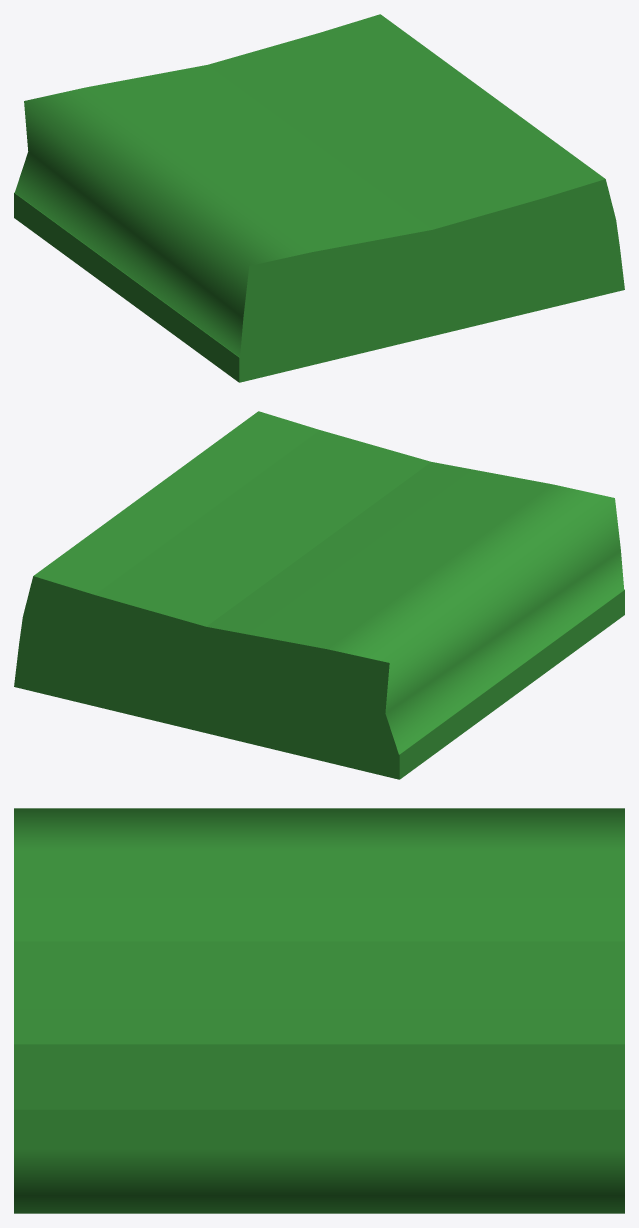
Rendered from intro_prop(floor_entrance)_01.FBX.
3 views of the same model, one above another, from view 1: azimuth 30°, elevation 25°; view 2: azimuth 150°, elevation 25°; view 3: azimuth 270°, elevation 25° (orthographic). The views are drawn at different scales.
Parts seen in each view (by area): view 1: floor_entrance001; view 2: floor_entrance001; view 3: floor_entrance001.
Boxes of the visible parts, <box> form: floor_entrance001: <box>14,14,624,382</box>; floor_entrance001: <box>14,411,624,779</box>; floor_entrance001: <box>14,808,624,1213</box>.
Size of what is drawn, in the model's own units: 172 by 49.25 by 174.
